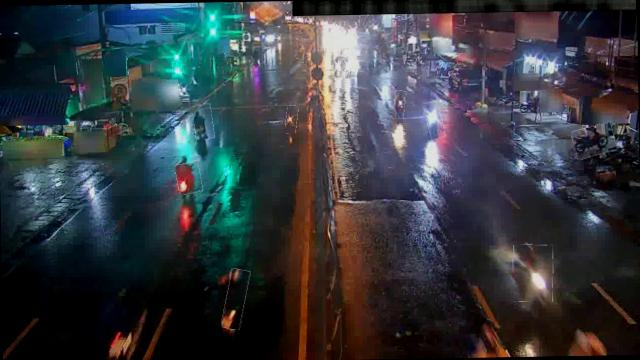Bike: (512, 243, 553, 302), (571, 123, 616, 157), (224, 269, 248, 330), (176, 162, 202, 194), (424, 101, 444, 139), (192, 104, 214, 138), (284, 104, 298, 132), (393, 90, 406, 119), (304, 82, 317, 106)
